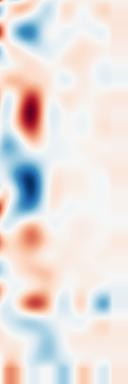filament: (15, 84, 50, 155)
